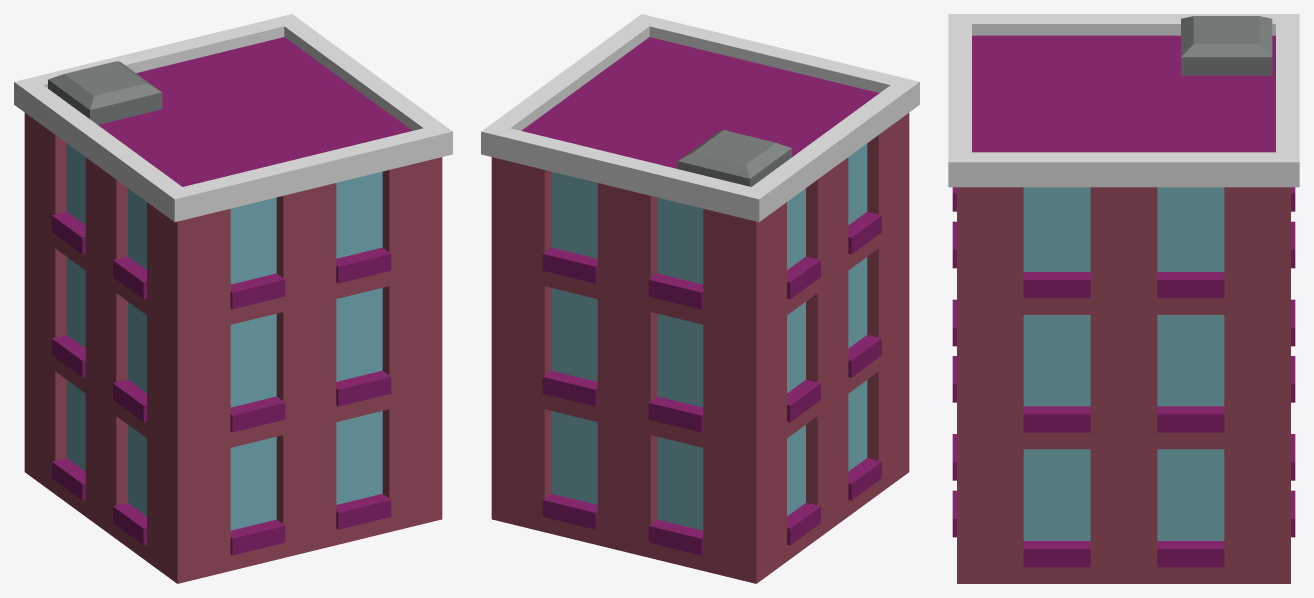
The model's file is buildingD.fbx.
The picture shows the model from 3 angles, left to right: view 1: azimuth 30°, elevation 25°; view 2: azimuth 150°, elevation 25°; view 3: azimuth 270°, elevation 25°; orthographic projection. The views are drawn at different scales.
Visible parts, largest first — view 1: BuildingD; view 2: BuildingD; view 3: BuildingD.
Part boxes in pixels (x1,y1,x2,y2): BuildingD: (14,14,452,583); BuildingD: (481,14,919,583); BuildingD: (948,14,1299,583).
Bounding box in the file's own units: 840 × 1162 × 840.
